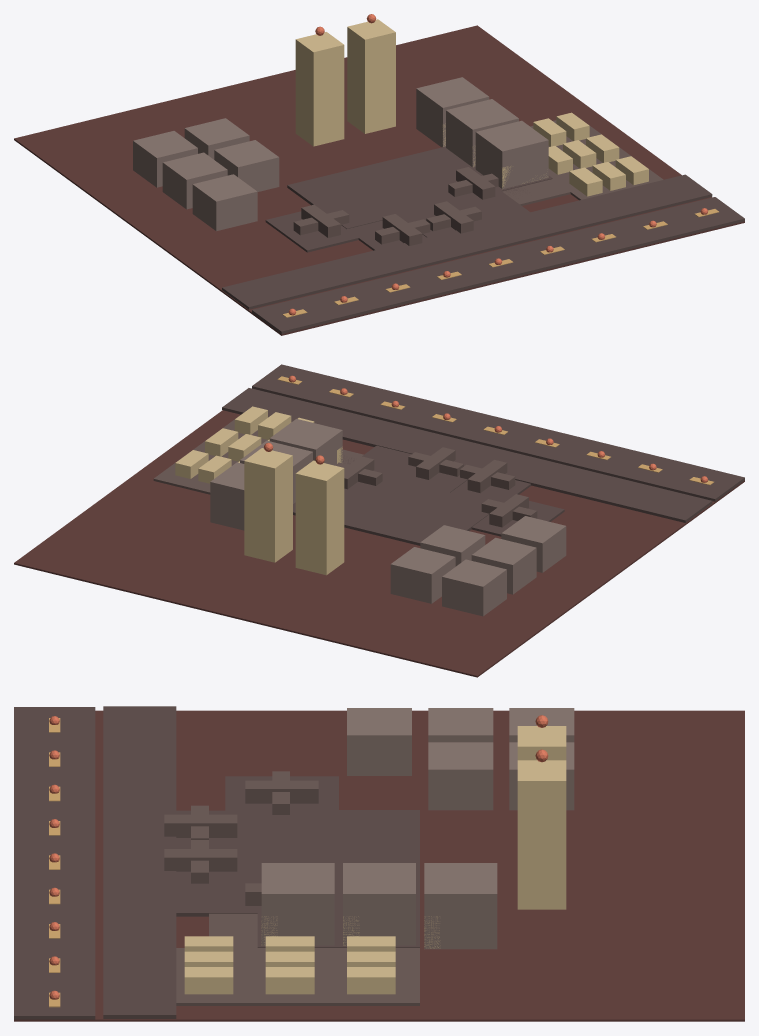
The model's file is stage_23.glb.
The picture shows the model from 3 angles, top to bottom: view 1: azimuth 30°, elevation 25°; view 2: azimuth 150°, elevation 25°; view 3: azimuth 270°, elevation 25°; orthographic projection. The views are drawn at different scales.
Parts seen in each view (by area): view 1: geometry_0; view 2: geometry_0; view 3: geometry_0.
Boxes of the visible parts, x1,y1,x2,y2 form: geometry_0: (14, 14, 744, 335); geometry_0: (14, 364, 744, 677); geometry_0: (14, 706, 744, 1021).
Bounding box in the file's own units: 9 × 2.06 × 9.
